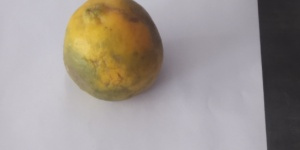BAD: (59, 1, 164, 103)
